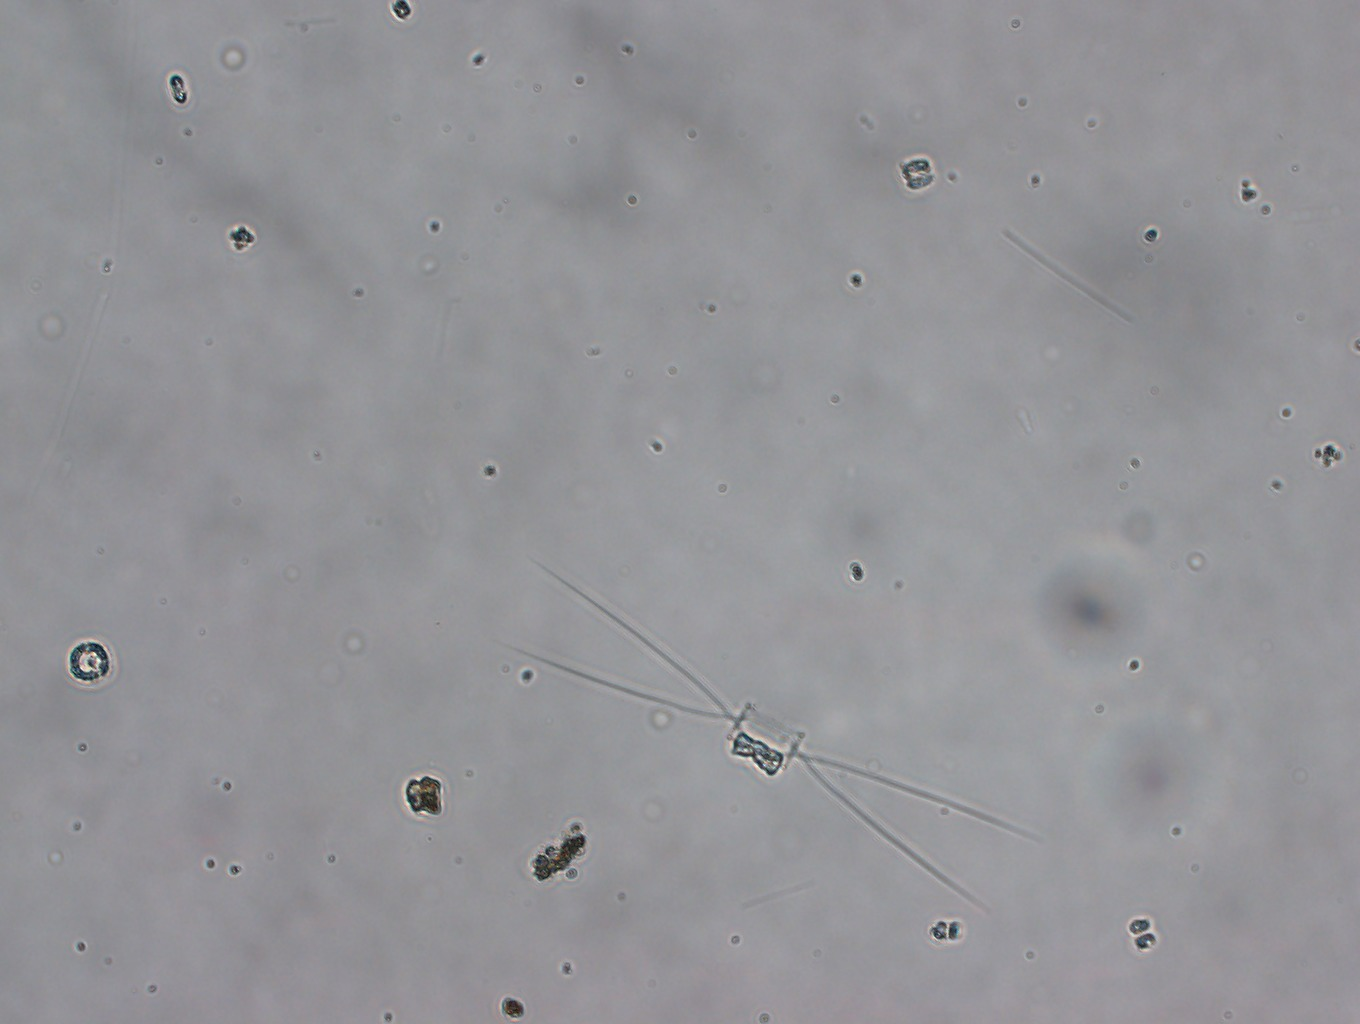chaetoceros: (503, 556, 1045, 918)
